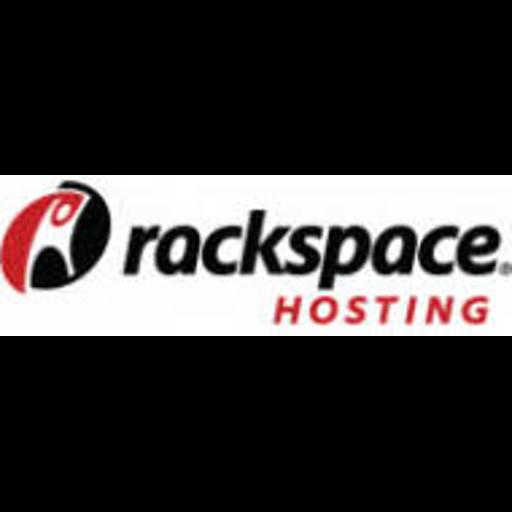Rackspace: (0, 175, 512, 336)
